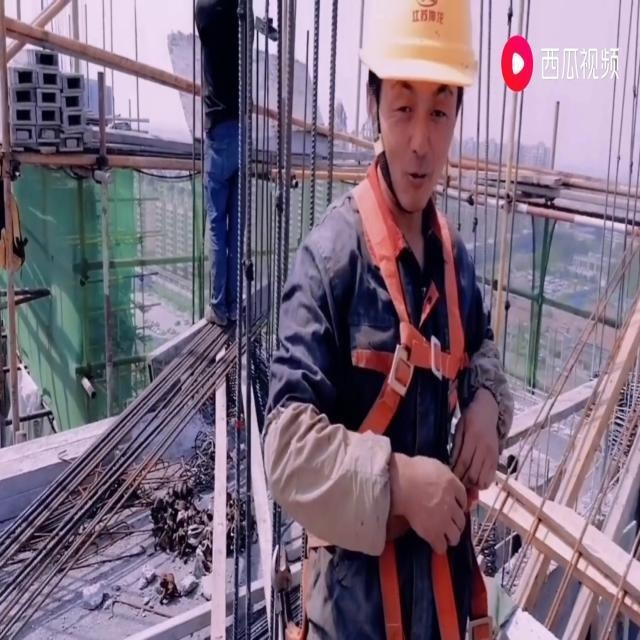Arnes_seguridad: (331, 166, 474, 461)
